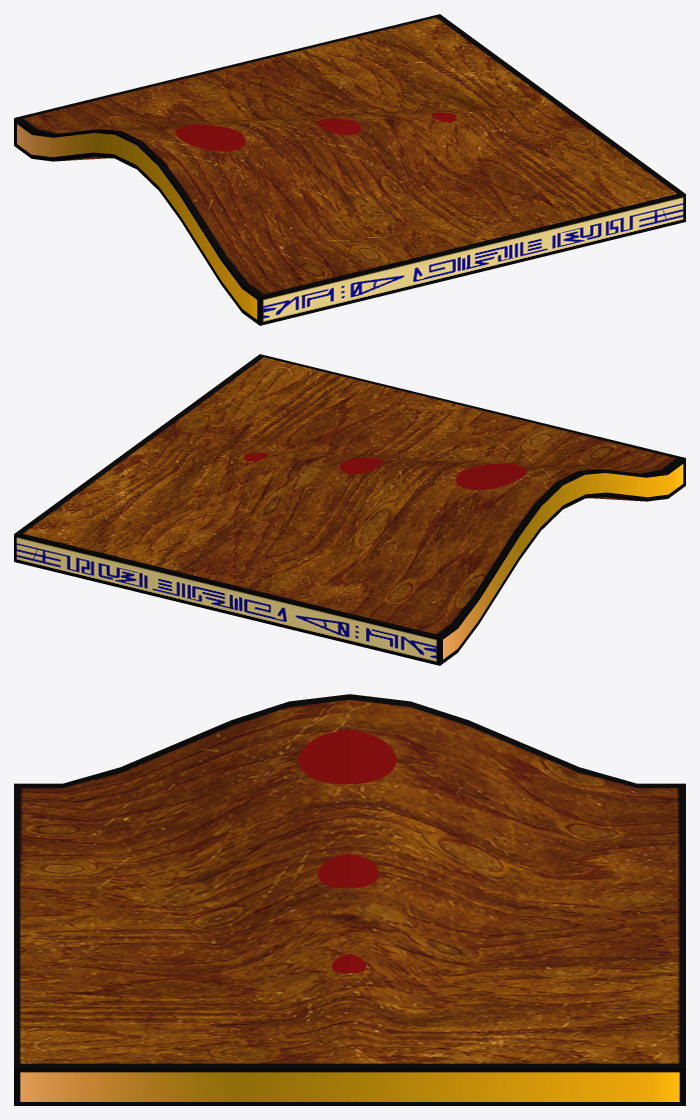
Rendered from jungle_sidebend.gltf.
The picture shows the model from 3 angles, top to bottom: view 1: azimuth 30°, elevation 25°; view 2: azimuth 150°, elevation 25°; view 3: azimuth 270°, elevation 25°; orthographic projection. The views are drawn at different scales.
Visible parts, largest first — view 1: jungle_sidebend_glb; view 2: jungle_sidebend_glb; view 3: jungle_sidebend_glb.
Part boxes in pixels (bbox=[...]): jungle_sidebend_glb: bbox=[14, 14, 685, 325]; jungle_sidebend_glb: bbox=[14, 354, 685, 665]; jungle_sidebend_glb: bbox=[14, 694, 685, 1105].
Size of what is drawn, in the model's own units: 4 by 0.8385 by 4.
Materials: 2 (2 with a texture image).
